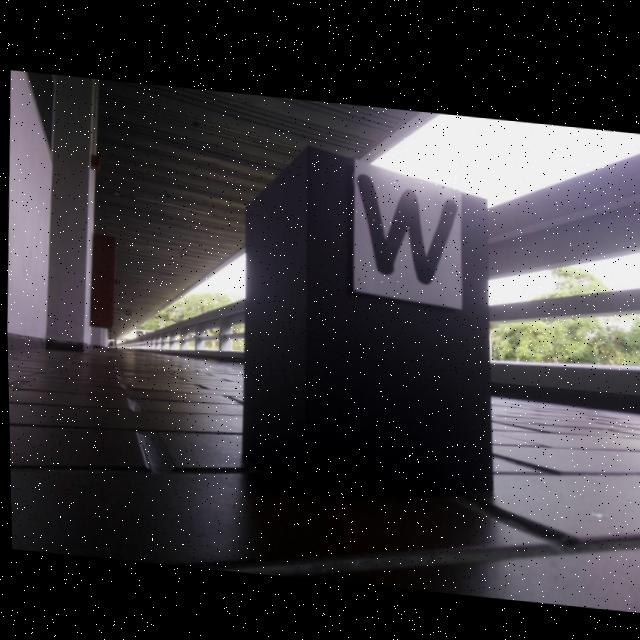W: (355, 168, 458, 281)
